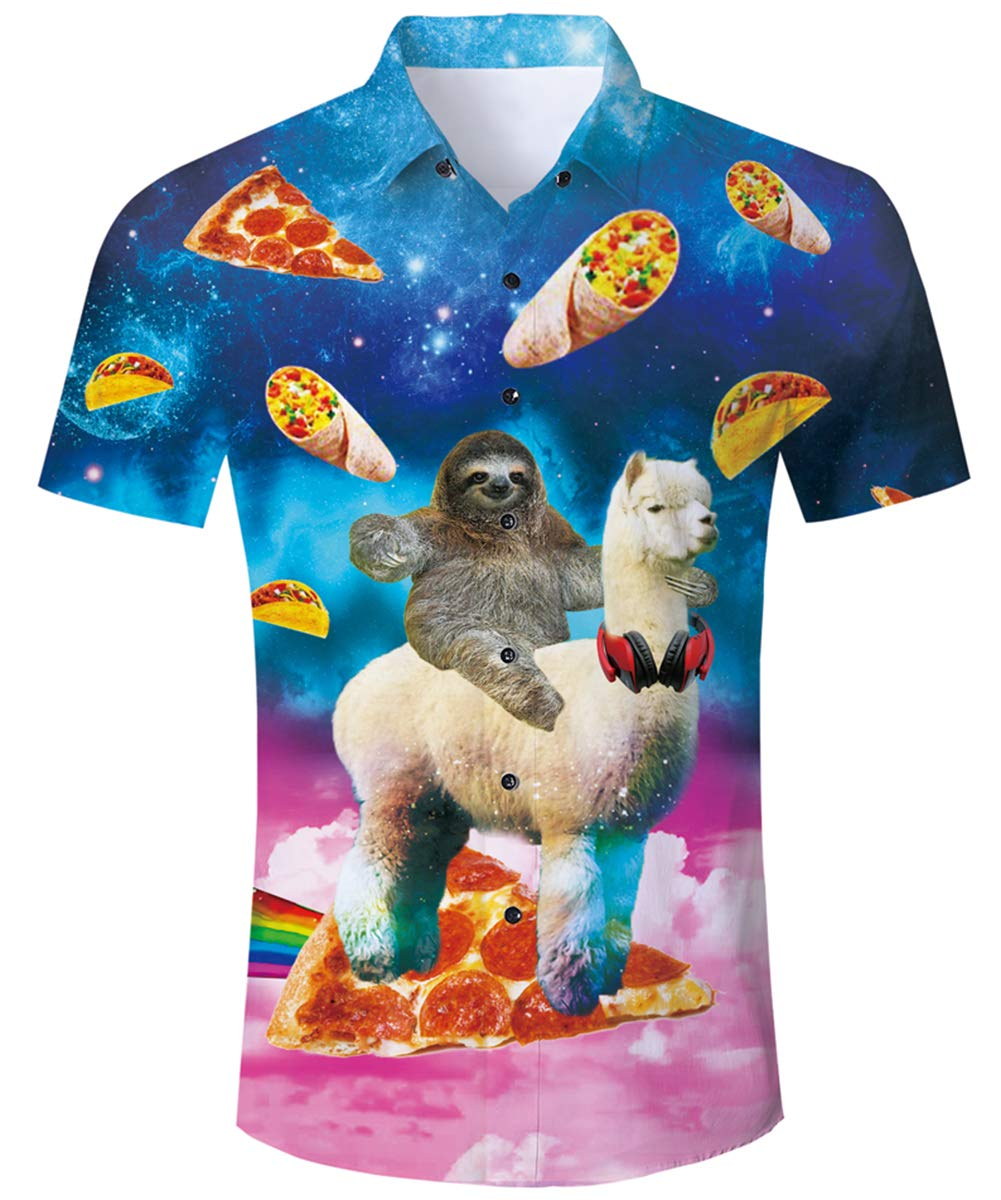polo shirt: (40, 14, 948, 1200)
